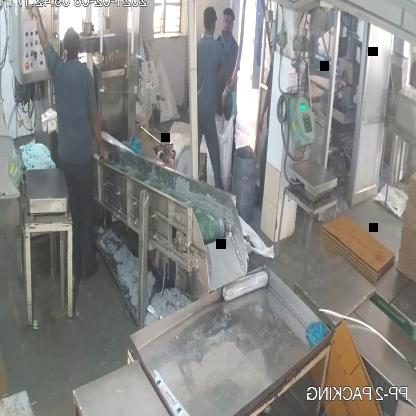no_glove: (84, 102, 109, 168), (21, 0, 51, 52)
